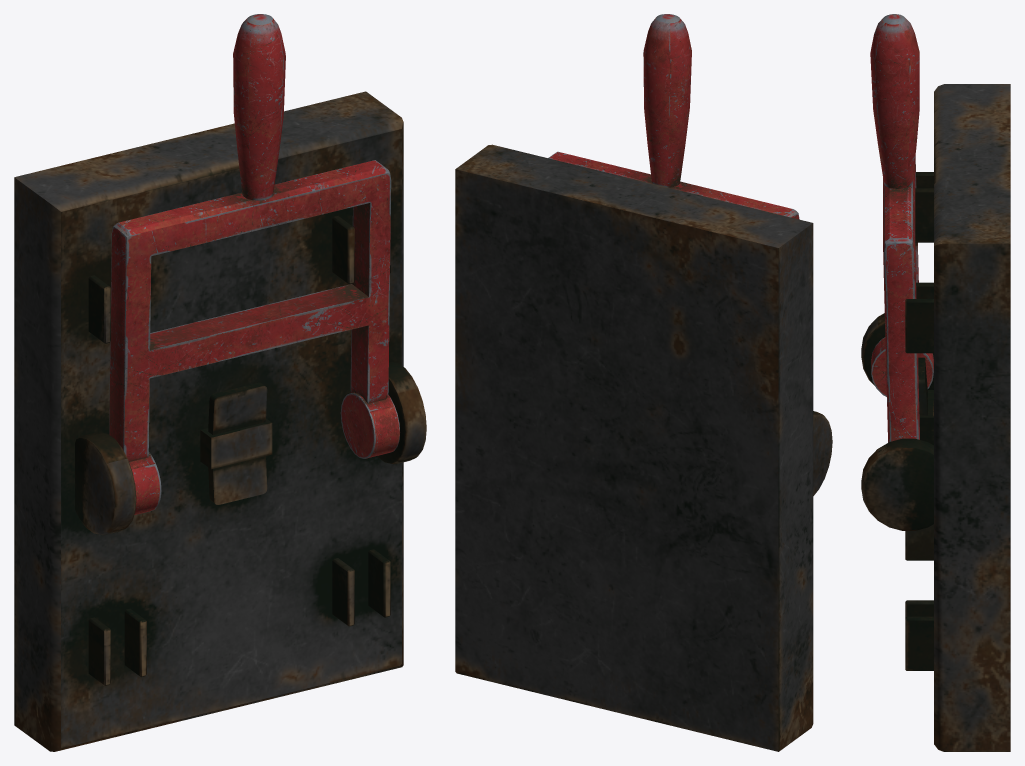
The model's file is Lever.fbx.
3 renders of one model, left to right at view 1: azimuth 30°, elevation 25°; view 2: azimuth 150°, elevation 25°; view 3: azimuth 270°, elevation 25°, orthographic. The views are drawn at different scales.
Parts seen in each view (by area): view 1: plate, lever; view 2: plate, lever; view 3: plate, lever.
Part boxes in pixels (x1=…): plate: x1=14, y1=91, x2=426, y2=751; lever: x1=109, y1=14, x2=399, y2=514; plate: x1=455, y1=144, x2=832, y2=751; lever: x1=548, y1=14, x2=799, y2=219; plate: x1=861, y1=84, x2=1010, y2=751; lever: x1=870, y1=14, x2=933, y2=442.
Bounding box in the file's own units: 18.61 × 35.88 × 7.37.
